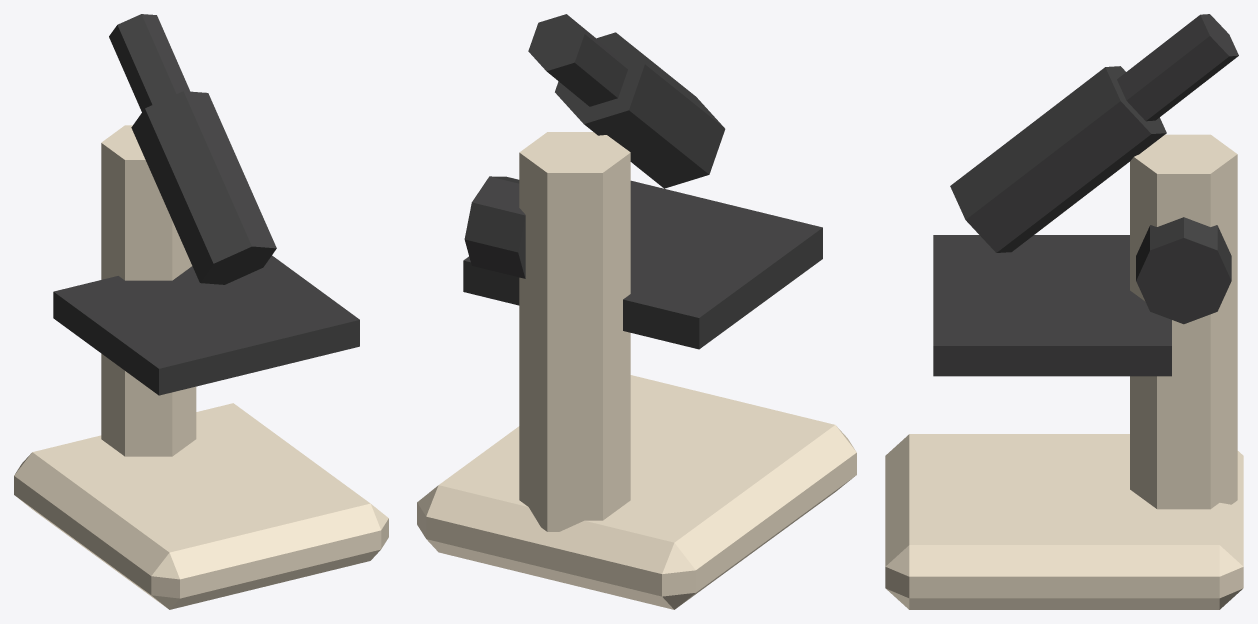
The picture shows the model from 3 angles, left to right: view 1: azimuth 30°, elevation 25°; view 2: azimuth 150°, elevation 25°; view 3: azimuth 270°, elevation 25°; orthographic projection. The views are drawn at different scales.
Parts seen in each view (by area): view 1: Foot, Stage, Arm, Optical barrel, Eyepiece; view 2: Foot, Arm, Stage, Optical barrel, Eyepiece, Focus knob; view 3: Foot, Stage, Arm, Optical barrel, Focus knob, Eyepiece.
Part boxes in pixels (x1,y1,x2,y2): Foot: [14, 403, 388, 609]; Stage: [53, 255, 359, 395]; Arm: [101, 125, 196, 456]; Optical barrel: [131, 91, 276, 284]; Eyepiece: [109, 14, 190, 111]; Foot: [417, 375, 856, 609]; Arm: [519, 132, 630, 531]; Stage: [463, 180, 822, 349]; Optical barrel: [555, 32, 725, 188]; Eyepiece: [528, 14, 627, 106]; Focus knob: [464, 176, 525, 278]; Foot: [885, 434, 1243, 609]; Stage: [933, 235, 1171, 376]; Arm: [1130, 134, 1237, 509]; Optical barrel: [950, 66, 1166, 252]; Focus knob: [1136, 217, 1231, 324]; Eyepiece: [1117, 14, 1238, 121].
Size of the model in its own units: 26 by 49.9 by 30.
